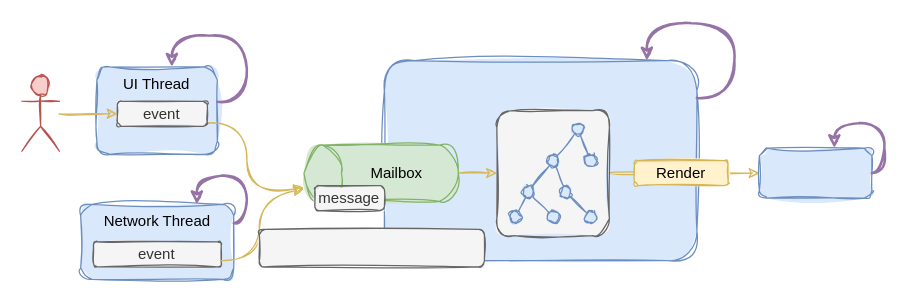
Some shapes in this 909 by 301 pixel diagram are drawn without their labels. Each missing label, with the box of its shape:
GPU Thread: (758, 147, 872, 198)
IPC (Inter Process Comunication): (258, 228, 484, 267)
Render Thread: (383, 59, 697, 261)
